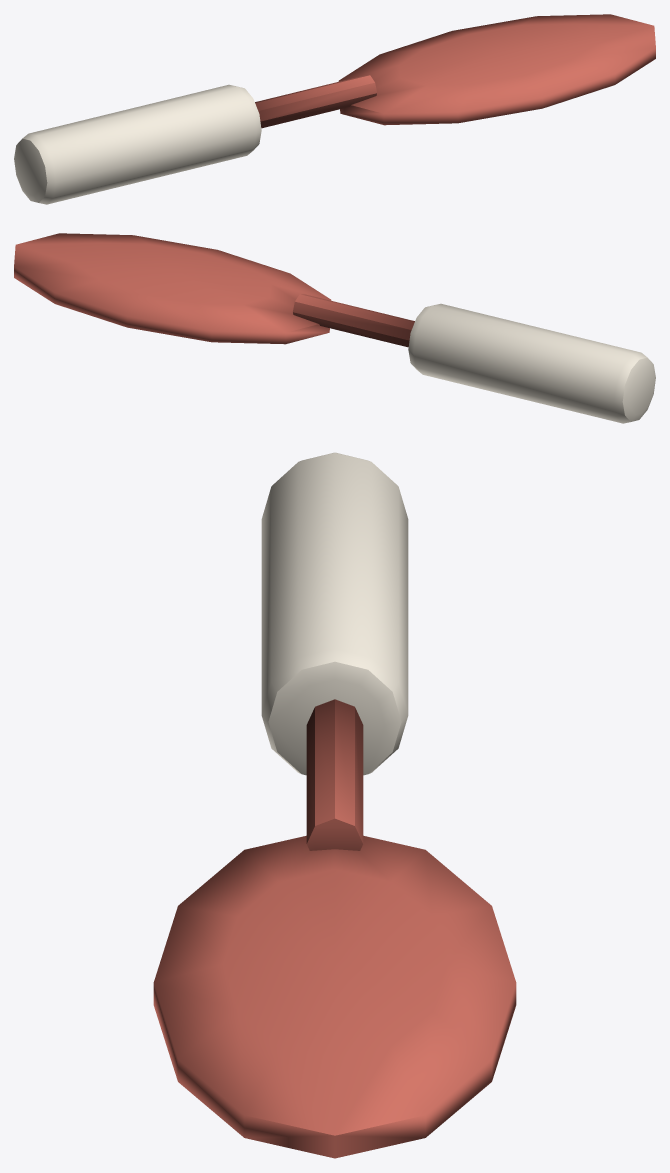
Rendered from forage_trowel.glb.
3 views of the same model, one above another, from view 1: azimuth 30°, elevation 25°; view 2: azimuth 150°, elevation 25°; view 3: azimuth 270°, elevation 25° (orthographic). The views are drawn at different scales.
Visible parts, largest first — view 1: PART; view 2: PART; view 3: PART.
Boxes of the visible parts, left/top/right/bottom form: PART: left=14, top=14, right=655, bottom=204; PART: left=14, top=233, right=655, bottom=423; PART: left=153, top=452, right=516, bottom=1158.
Size of the model in its own units: 0.2562 by 0.026 by 0.0642.
